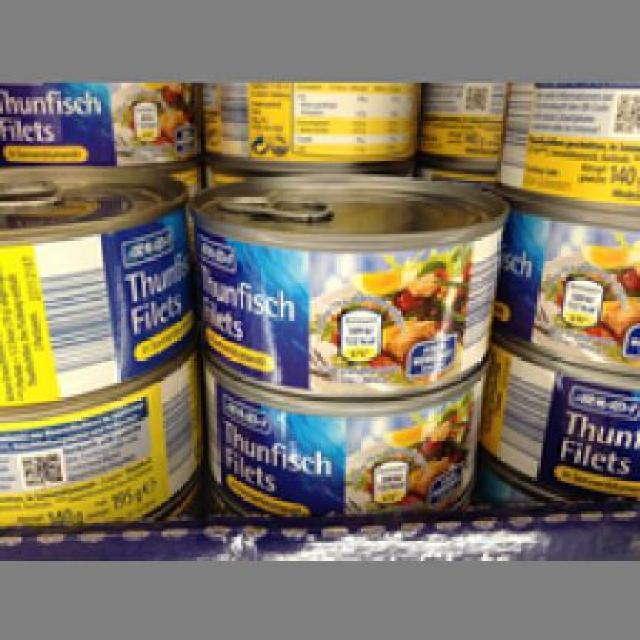Fish: (199, 172, 512, 394), (0, 166, 189, 420), (200, 363, 494, 520), (3, 362, 200, 518), (492, 171, 638, 366), (477, 328, 637, 492)
